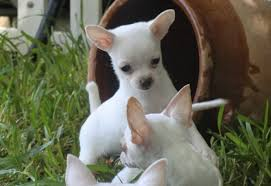chihuahua: (58, 5, 219, 118)
